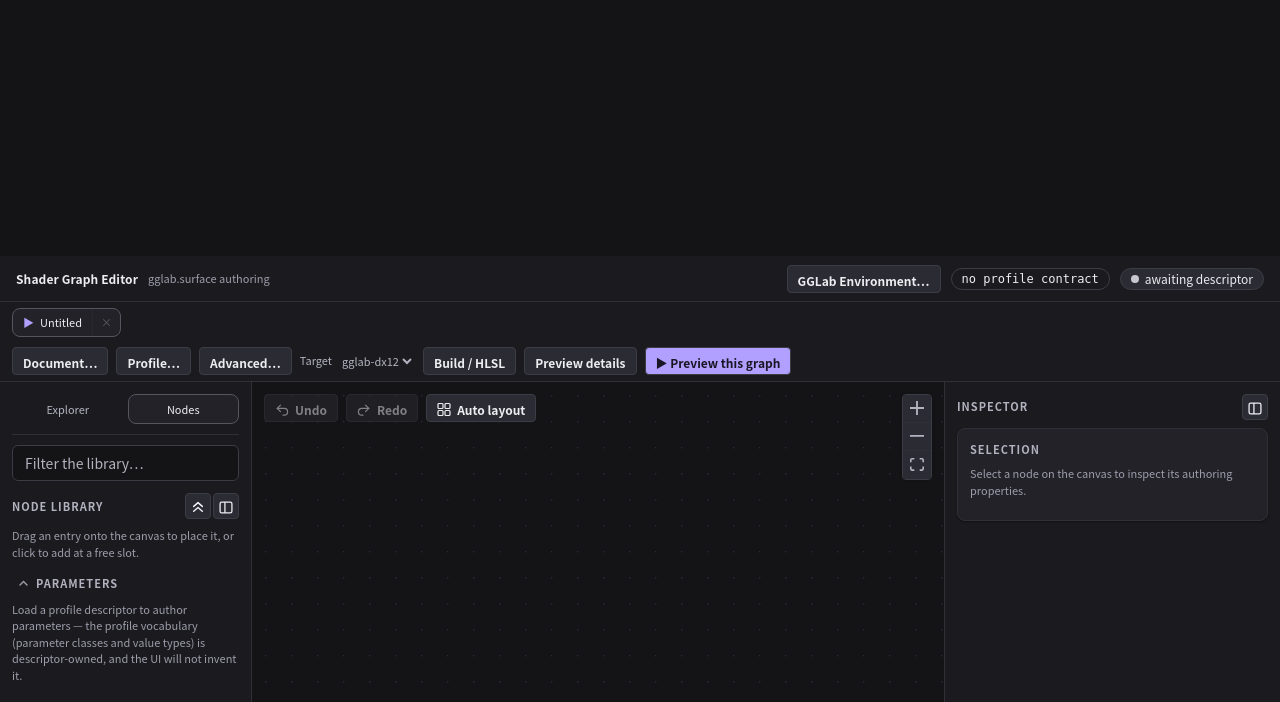
Test case: selection Inspector and global workbench surfaces › exposes document text in its global modal and preserves drafts across close
(page scrolled)
Click the button "Document…" at {"x": 60, "y": 360}, box [12,346,108,374]
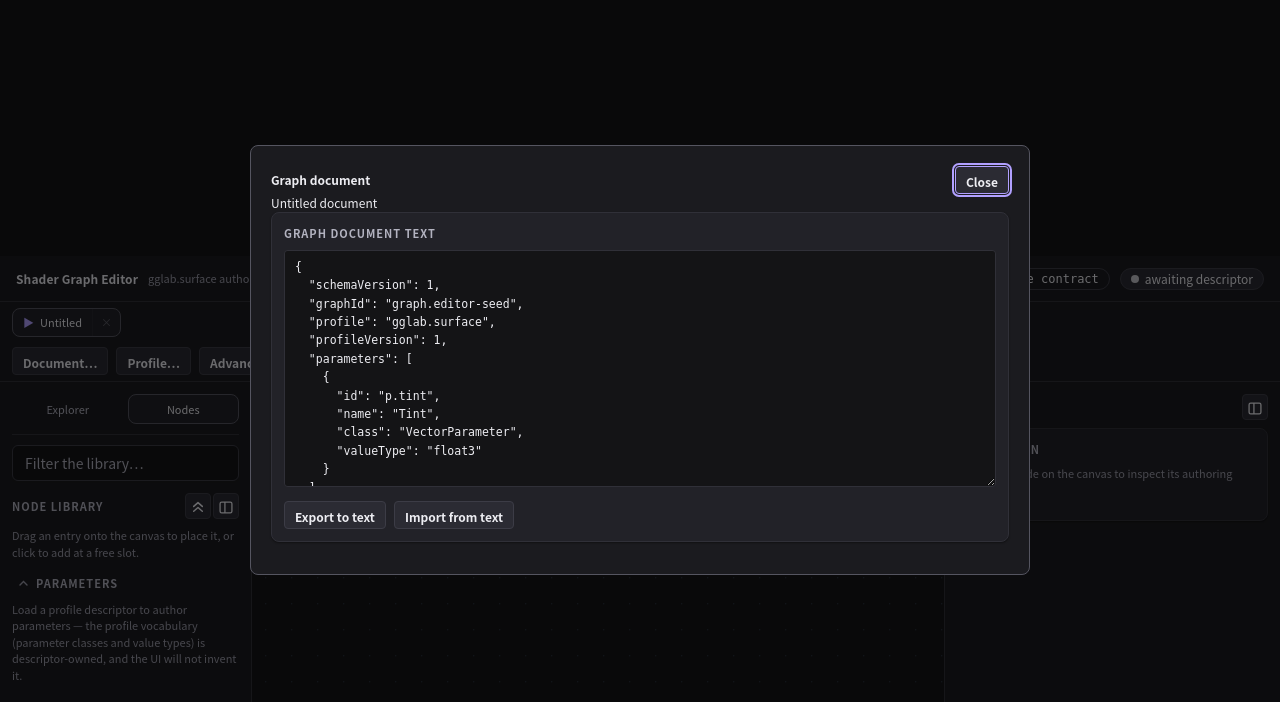
Replace the text in the text box named "Graph document JSON" with "draft" at {"x": 640, "y": 368}, box [284,250,996,487]
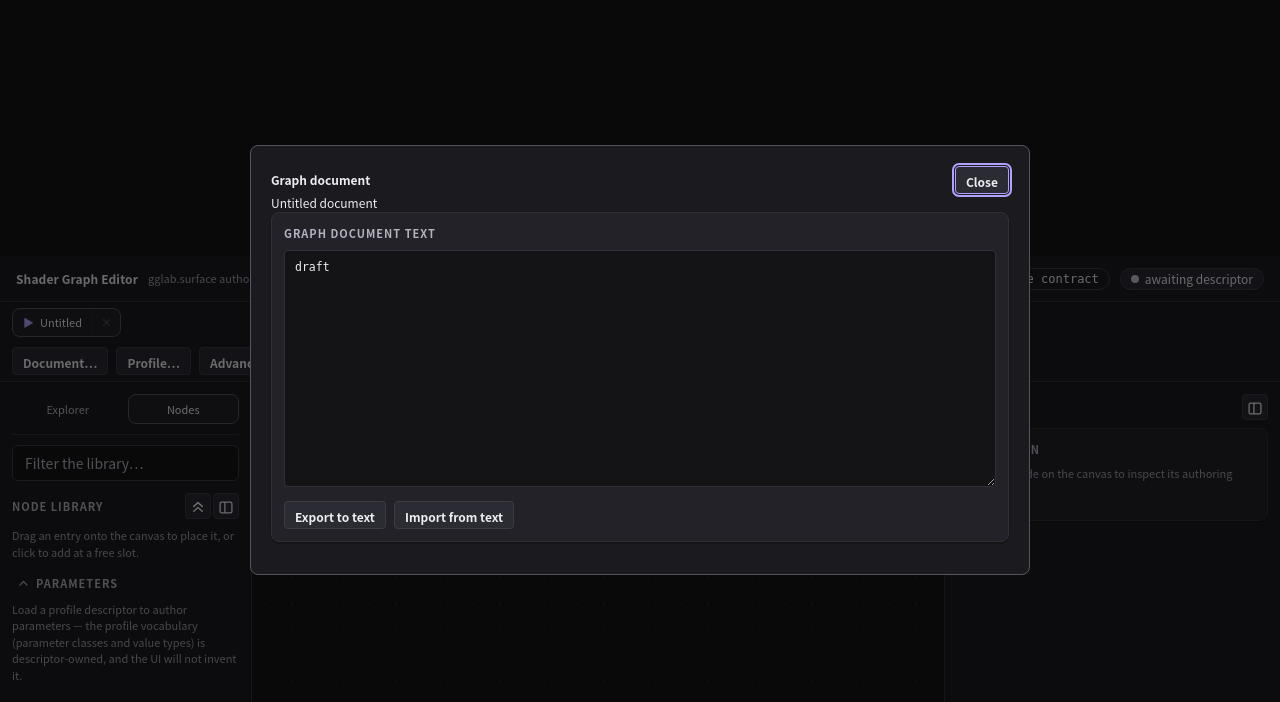
Click the button "Close" at {"x": 982, "y": 180}, box [955,166,1009,194]
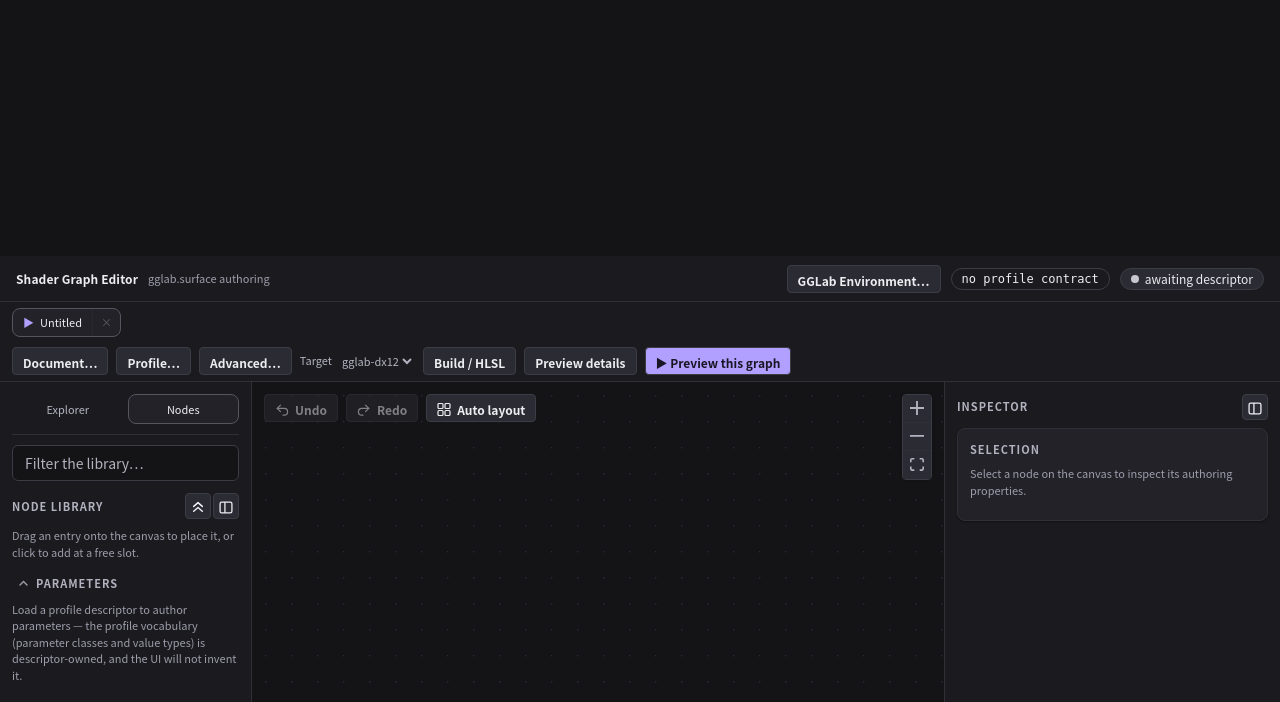
Click the button "Document…" at {"x": 60, "y": 360}, box [12,346,108,374]
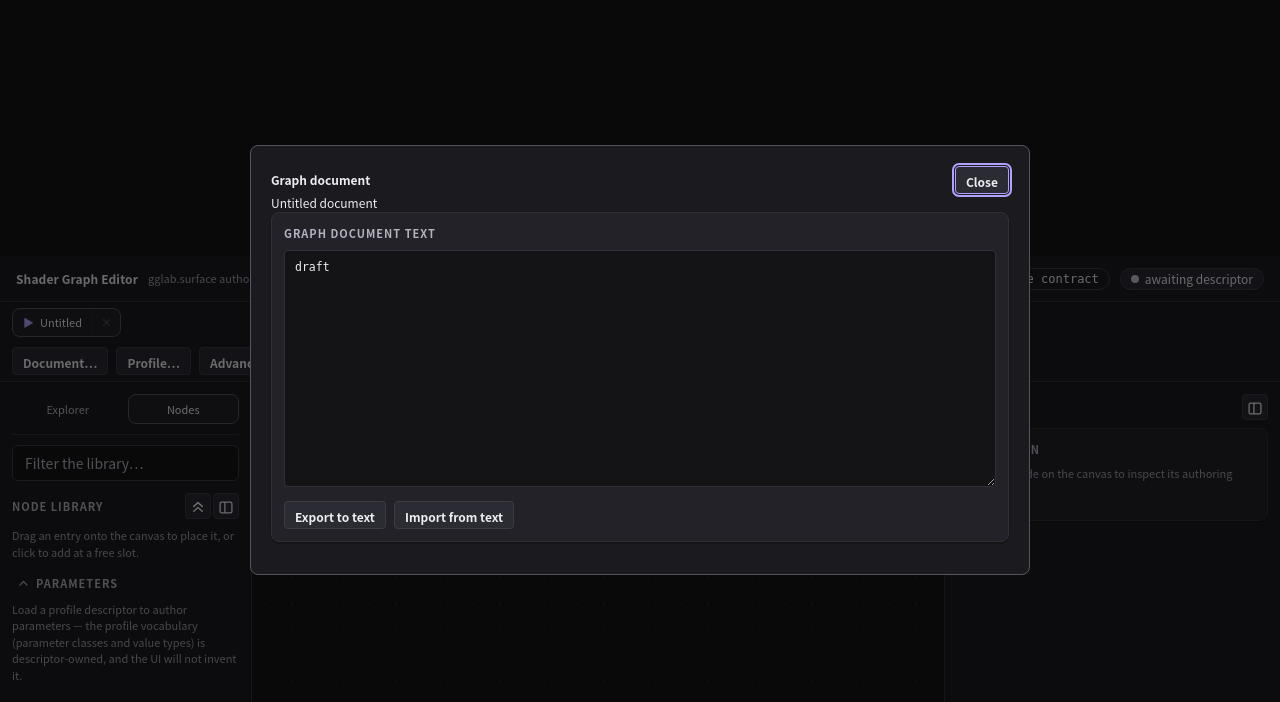
Check: the text box named "Graph document JSON" holds "draft", box [284,250,996,487]
